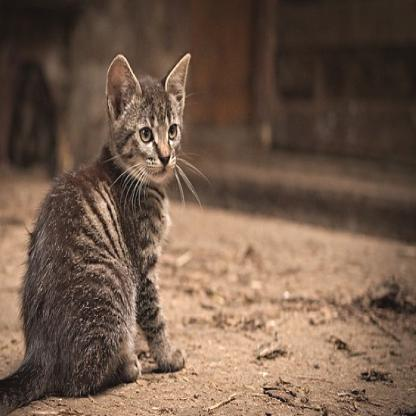cat: (1, 46, 196, 415)
